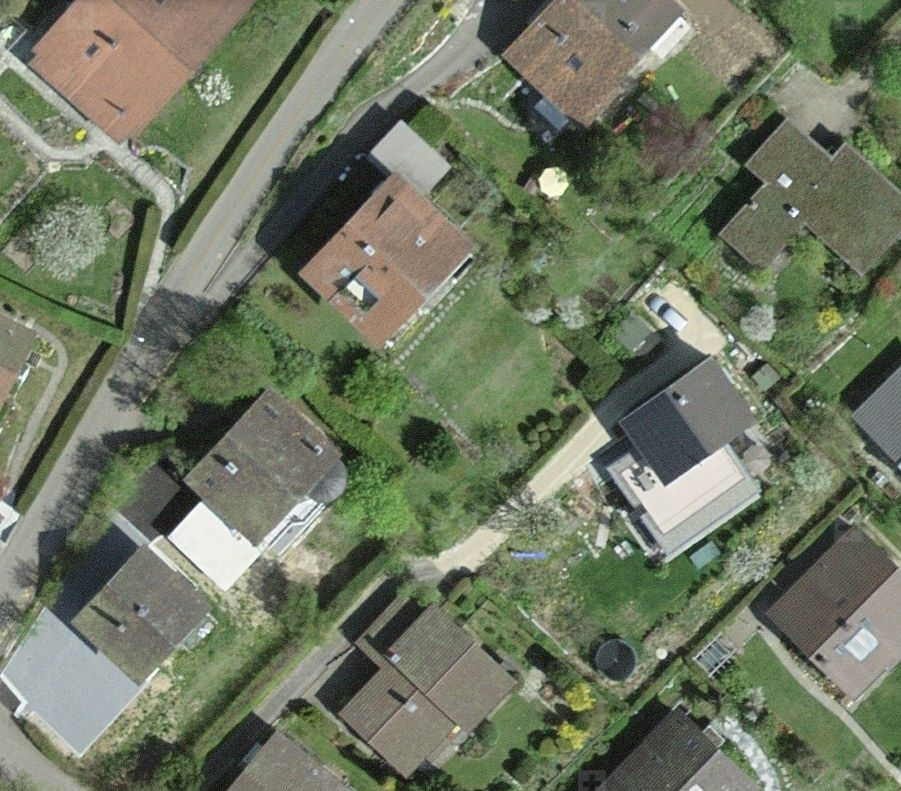solar: (617, 390, 708, 491)
